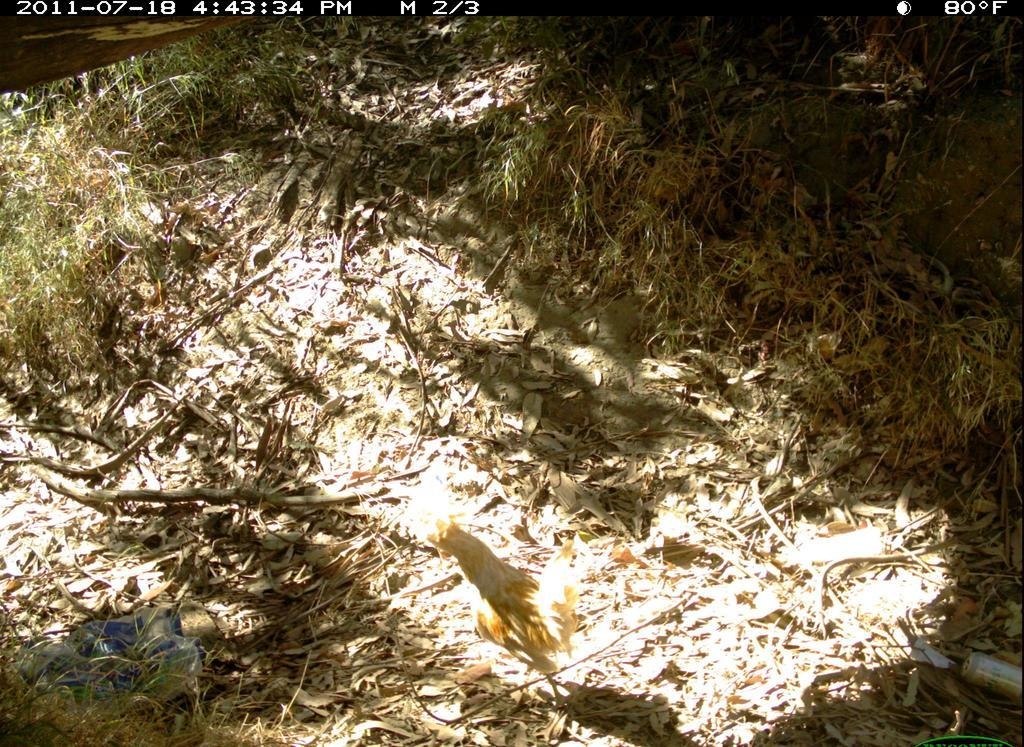bird: (428, 509, 596, 679)
